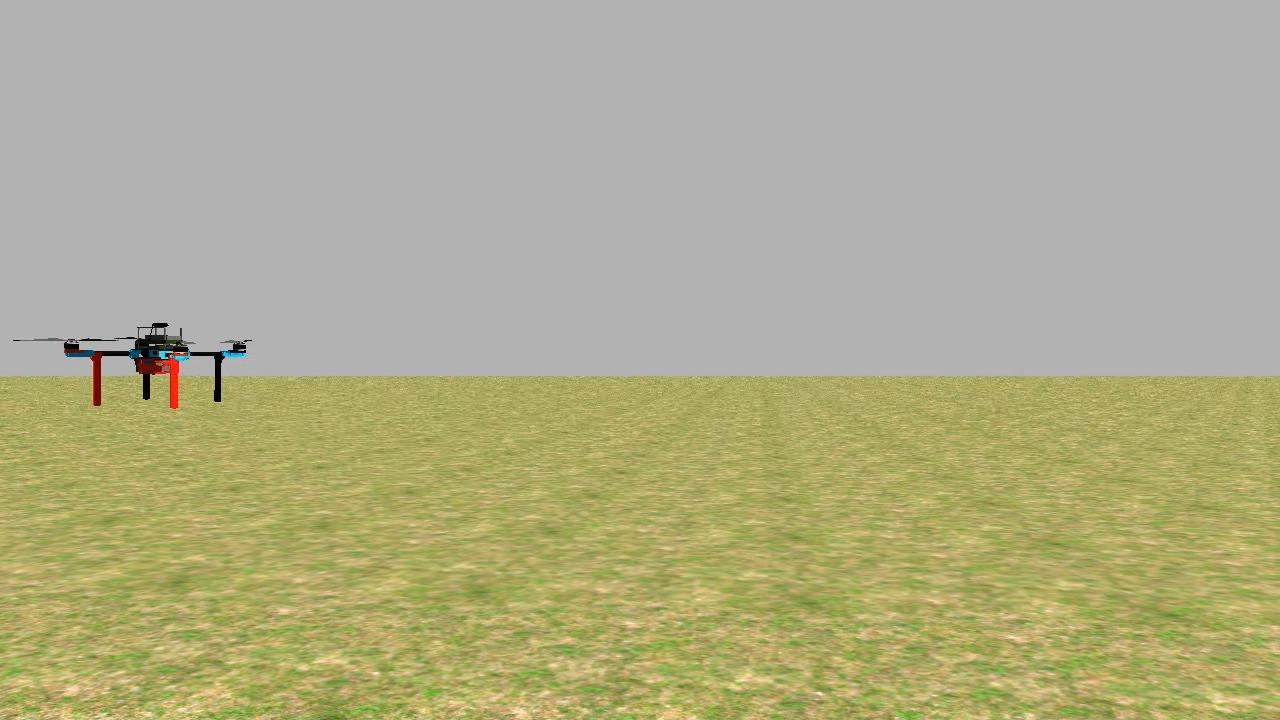UAV: (55, 312, 255, 441)
